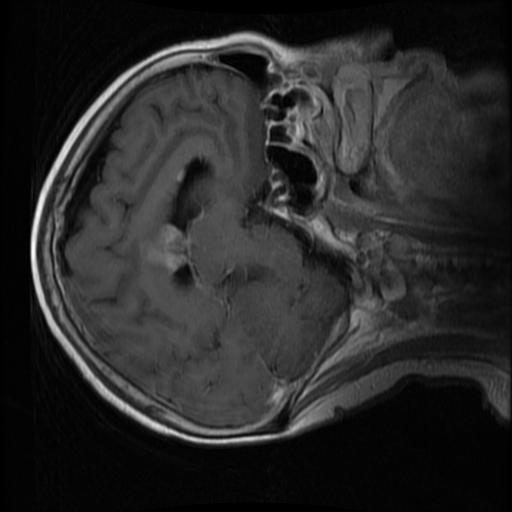glioma: (141, 223, 190, 271)
